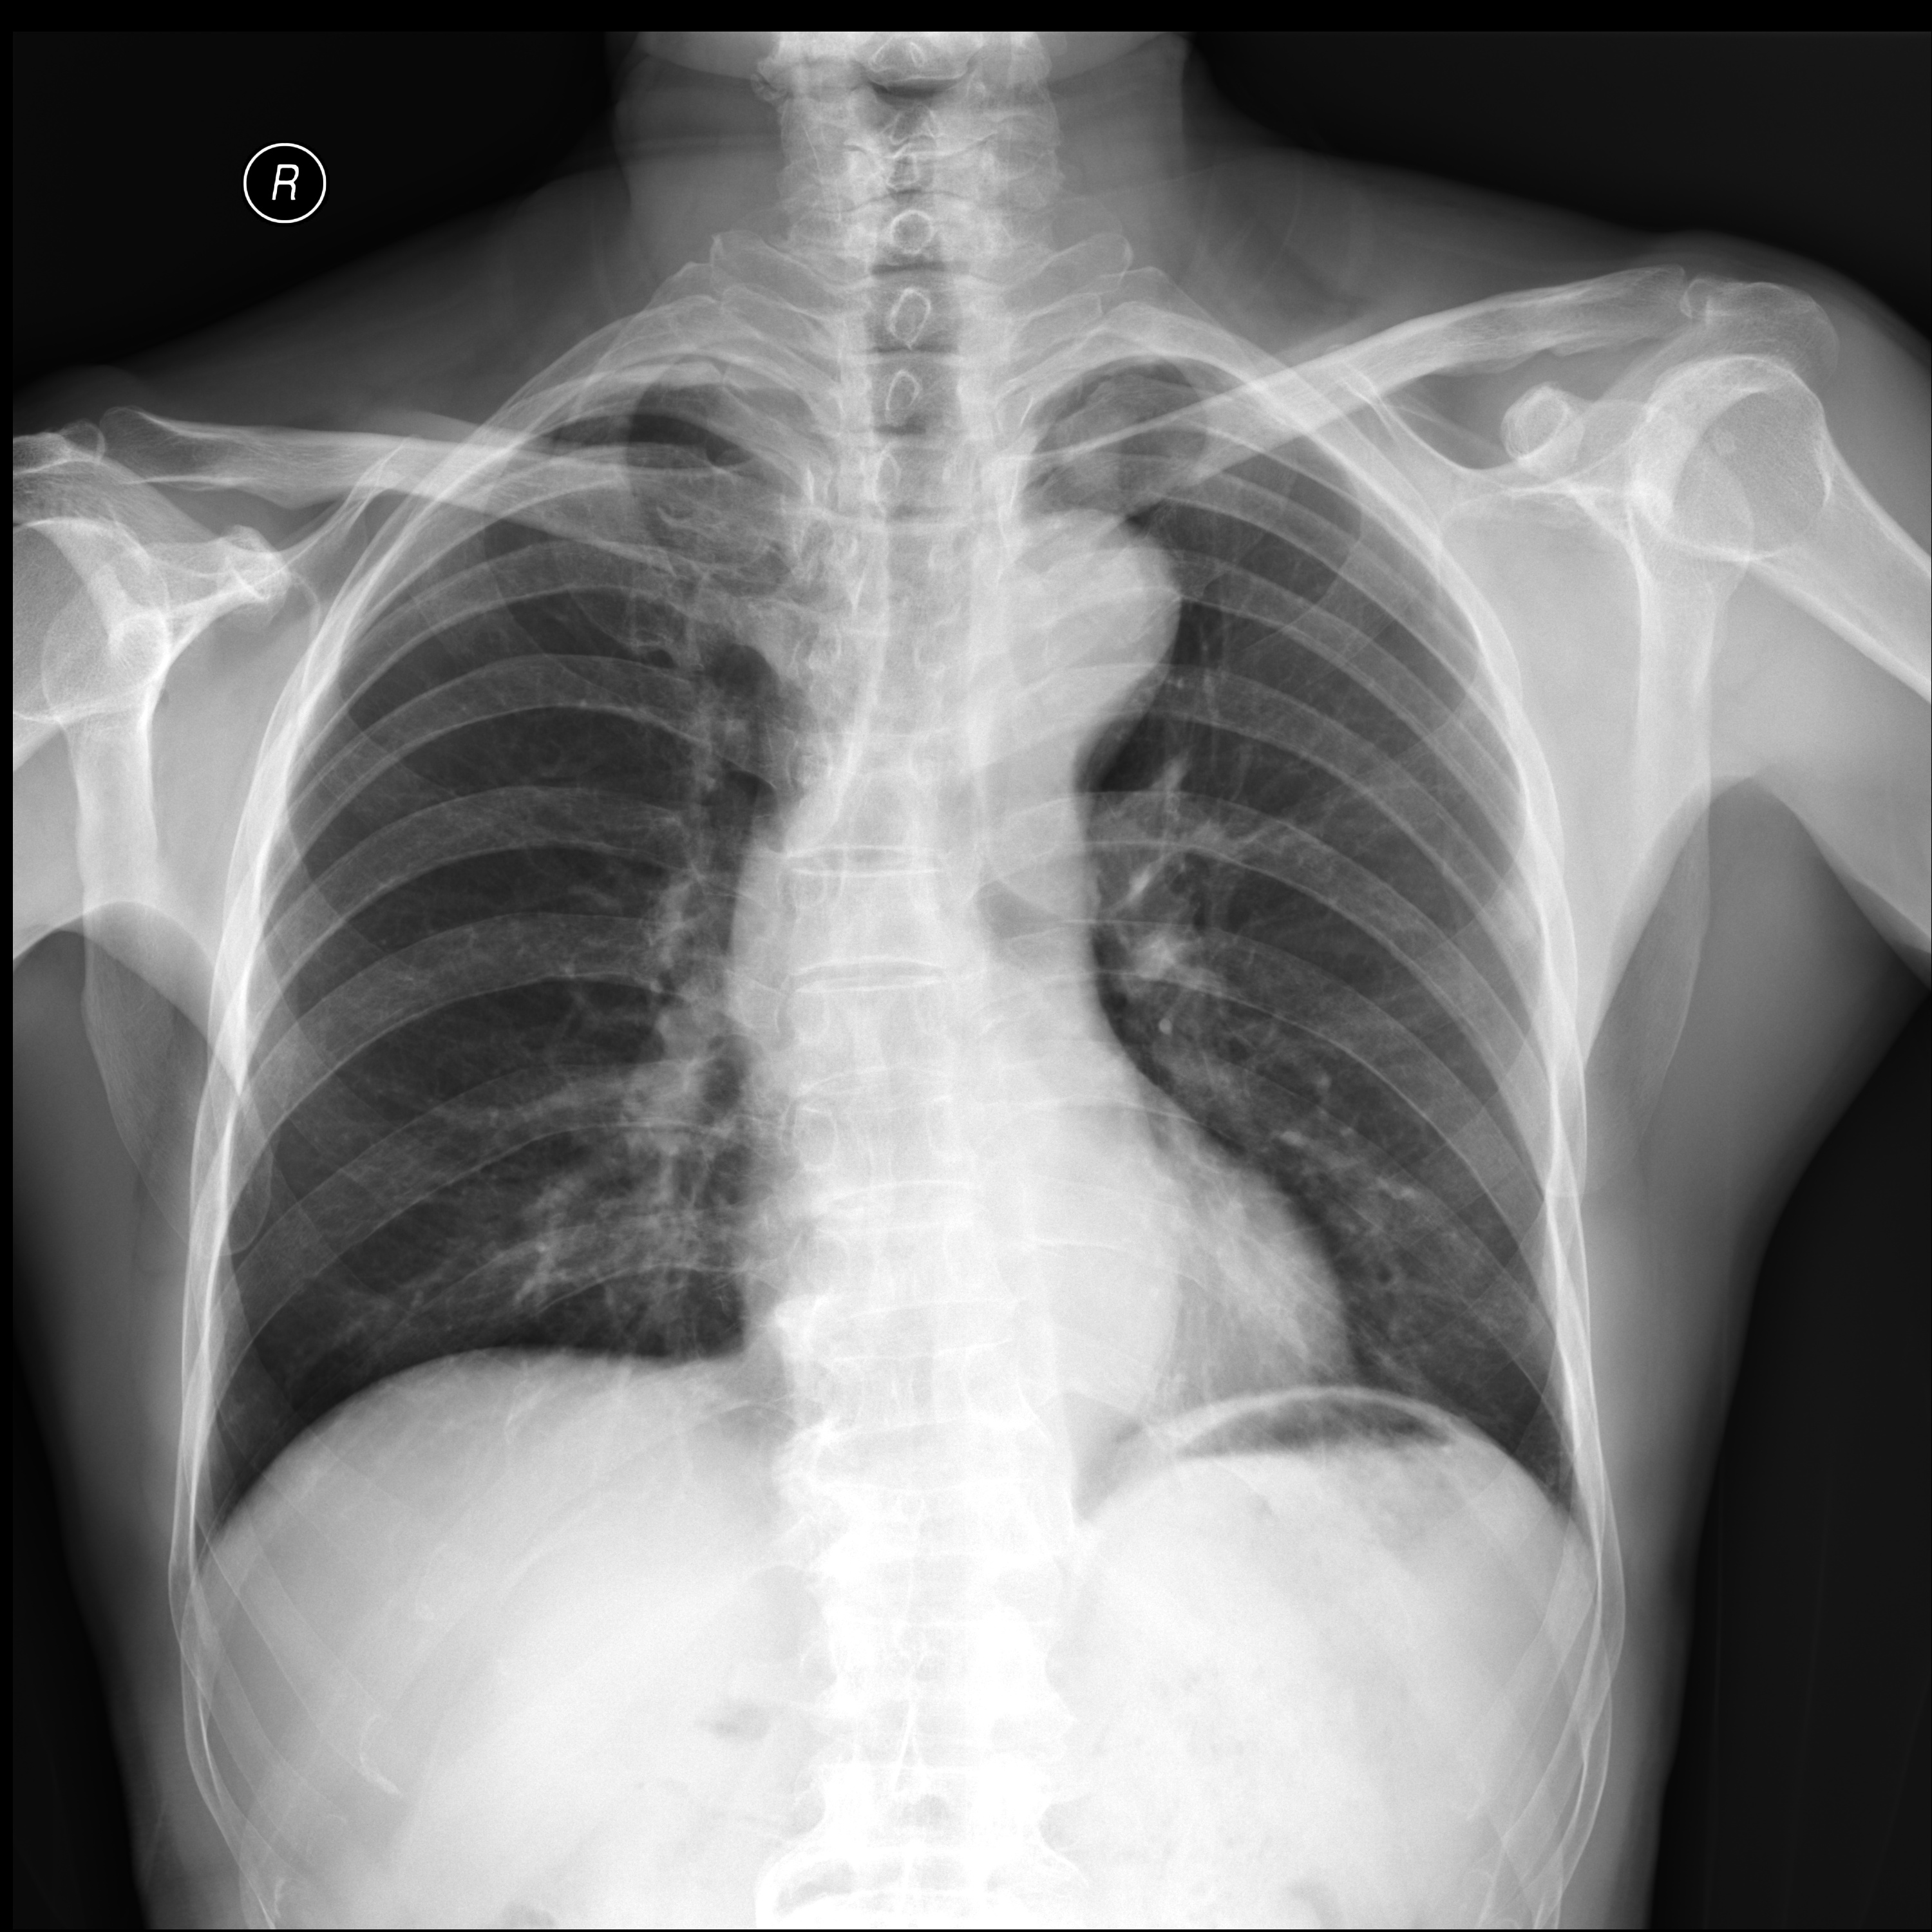nodule: (1476, 842, 1582, 971)
